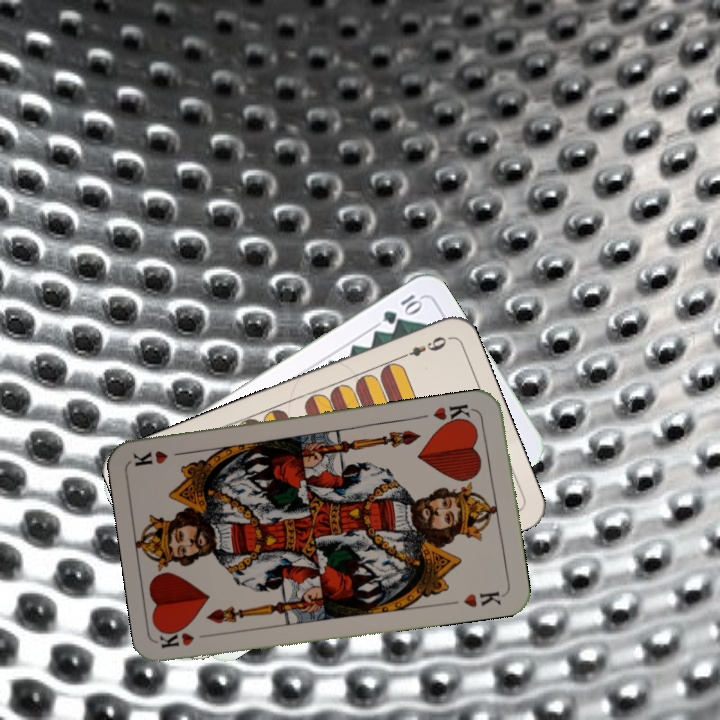E9: (395, 332, 450, 362)
G10: (378, 290, 425, 327)
HK: (157, 627, 217, 651), (429, 400, 478, 429)
